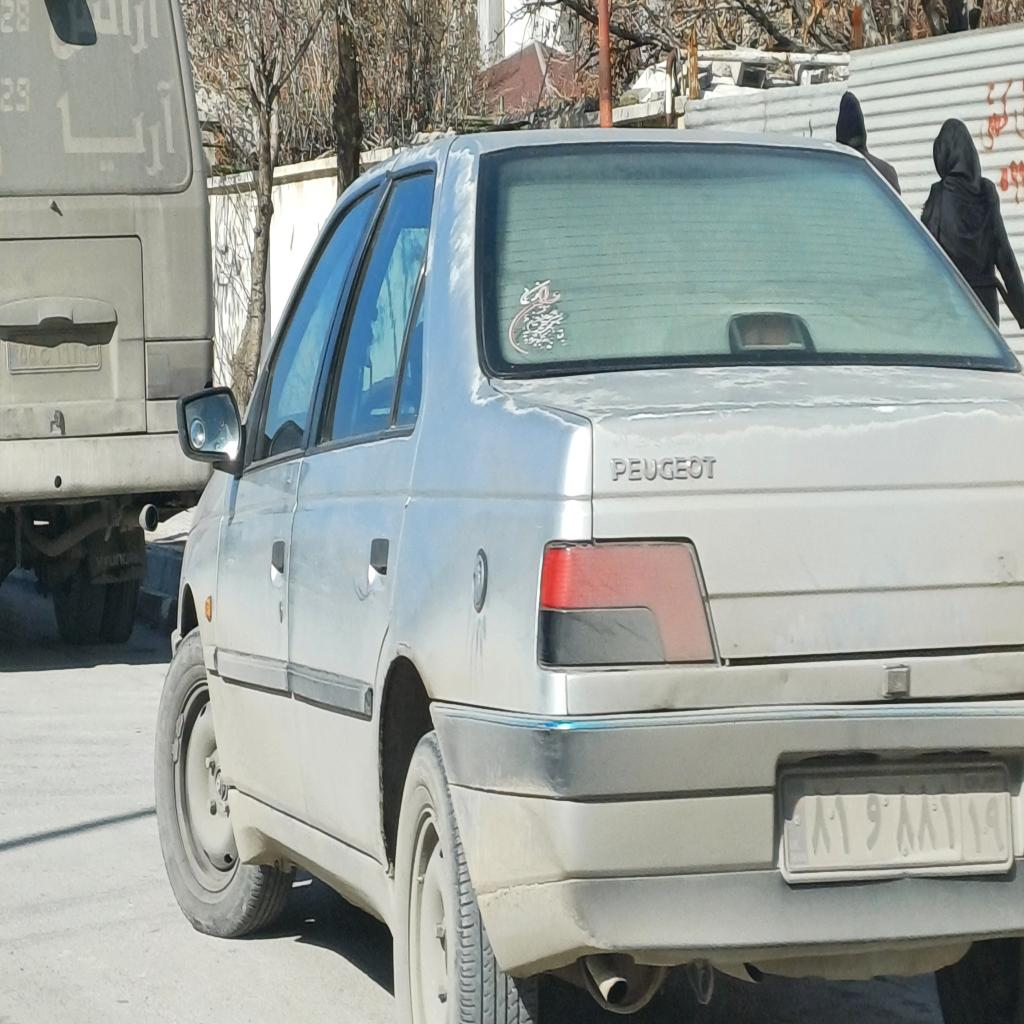Plates: (782, 768, 1010, 874)
